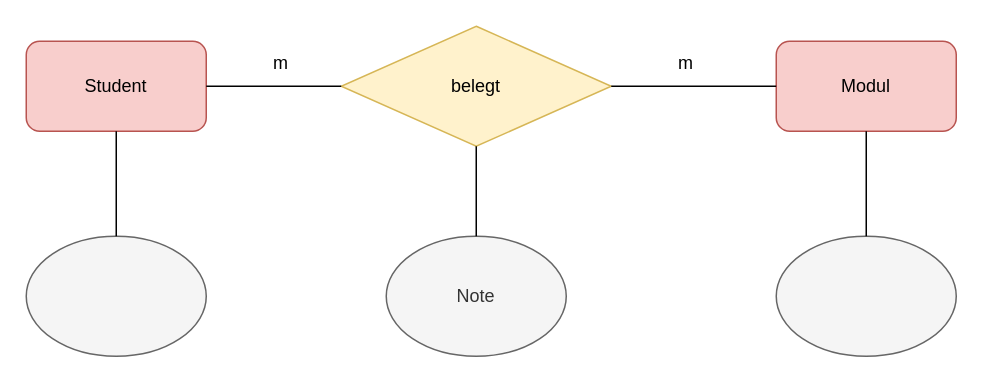
Image size: 983x383. Some labels were removed from this diagram. Each missing label, with the centre of its shape:
"idModul Modulname" belongs at point (865, 295).
"idStudent Name Vorname" belongs at point (115, 295).
